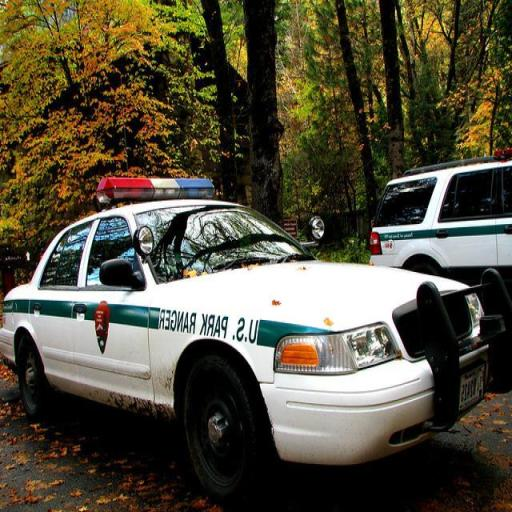Ambulance: (0, 171, 495, 498), (362, 143, 512, 265)
